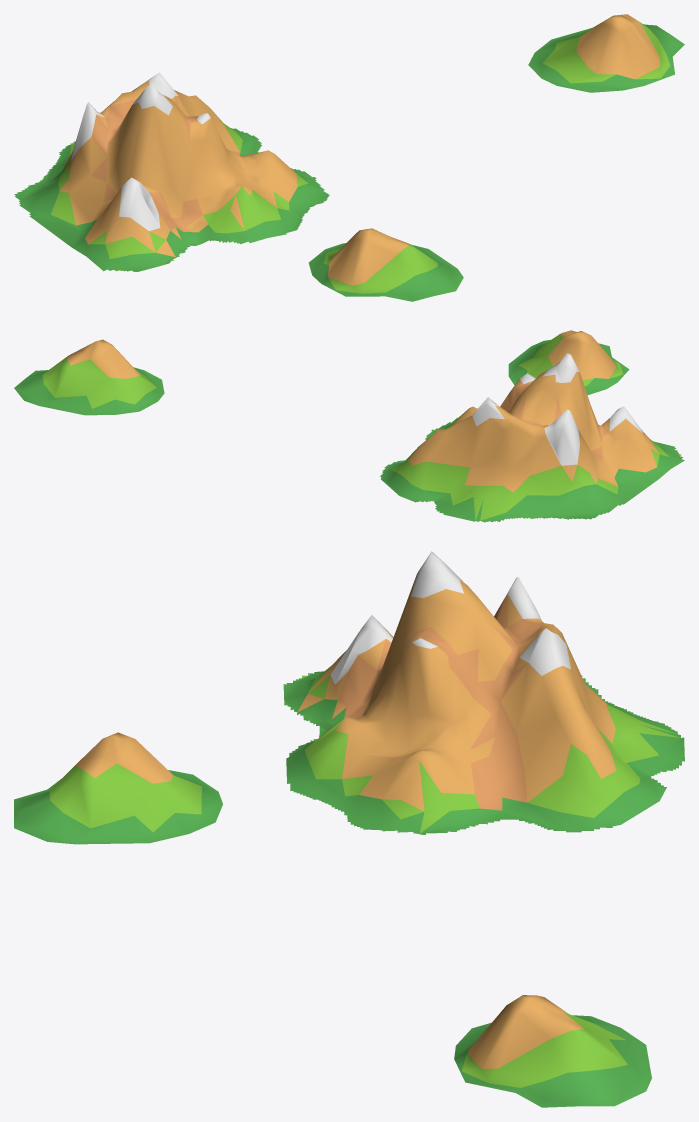
The model's file is gori.glb.
3 views of the same model, one above another, from view 1: azimuth 30°, elevation 25°; view 2: azimuth 150°, elevation 25°; view 3: azimuth 270°, elevation 25° (orthographic). The views are drawn at different scales.
Parts seen in each view (by area): view 1: Декор.003; view 2: Декор.003; view 3: Декор.003.
Boxes of the visible parts, x1=… form: Декор.003: x1=14, y1=14, x2=684, y2=301; Декор.003: x1=14, y1=330, x2=684, y2=522; Декор.003: x1=14, y1=551, x2=684, y2=1107.
Bounding box in the file's own units: 346 × 66.14 × 223.
